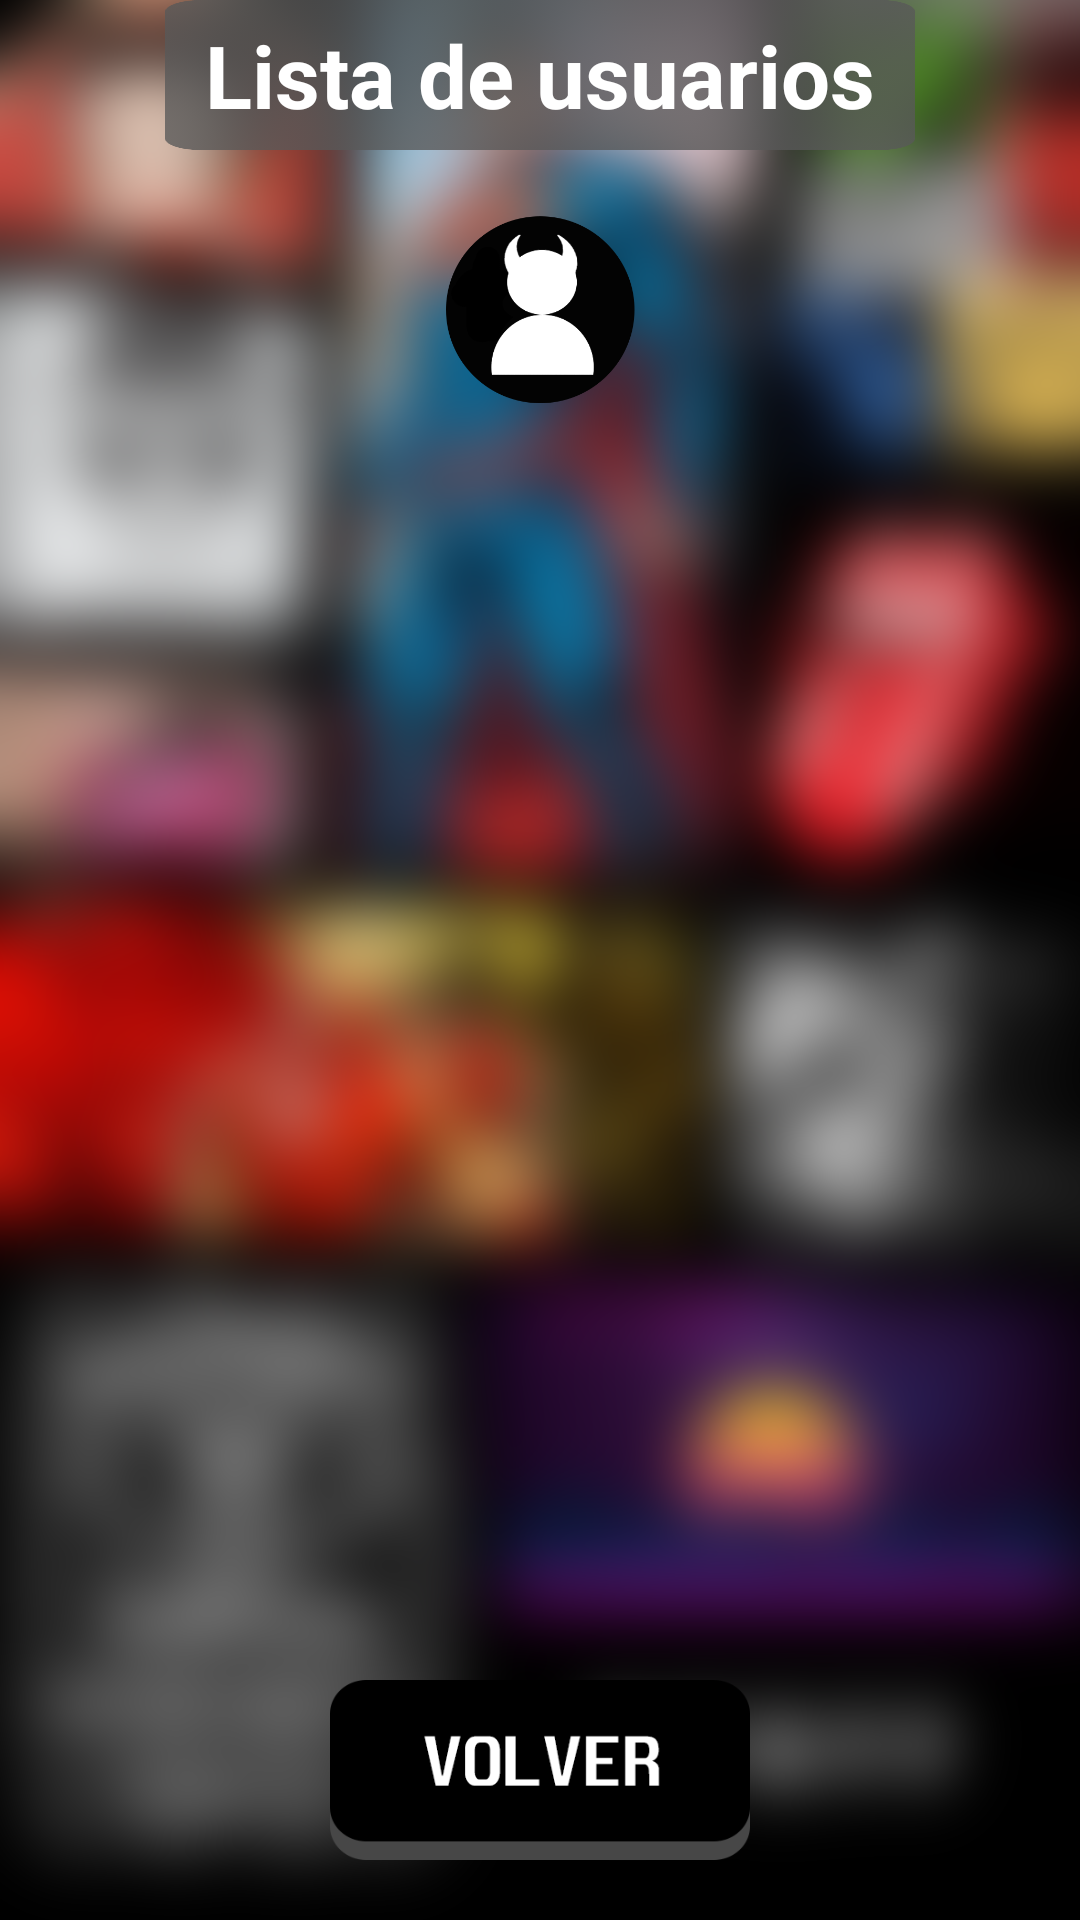

Named icons in this screenshot (1080px×1920px) and their centers, (x,y):
iconousuario: (540,315)
